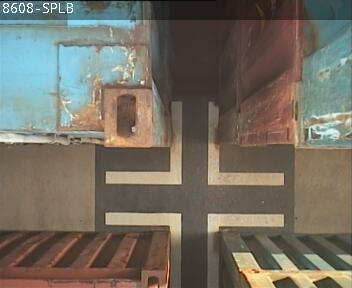groundmarker_1: (103, 101, 282, 184), (105, 210, 284, 288)
